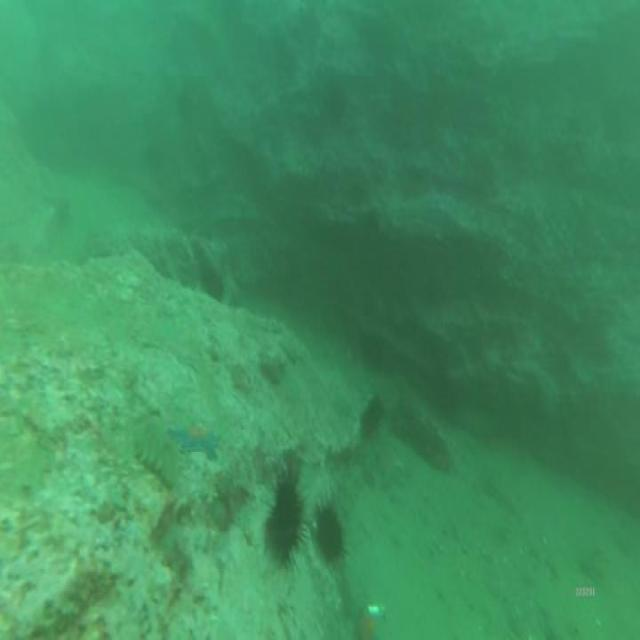echinus: (262, 473, 308, 564), (315, 504, 351, 563), (358, 392, 383, 442), (201, 265, 226, 302)
starfish: (170, 413, 228, 466)
